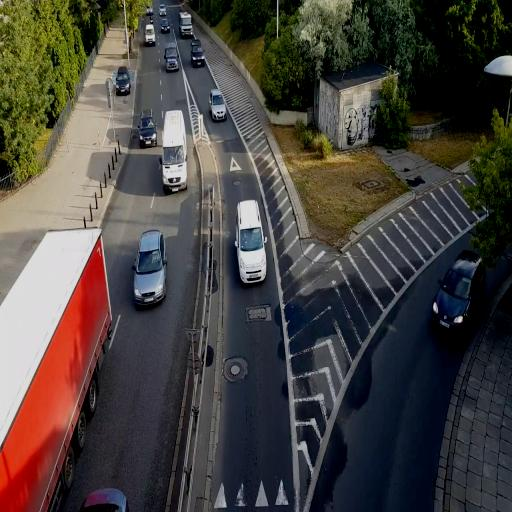vehicle: (0, 226, 114, 508), (431, 252, 487, 336), (234, 200, 268, 286), (132, 229, 167, 309), (162, 110, 188, 194), (139, 113, 157, 147), (208, 90, 227, 120), (114, 68, 131, 96), (164, 43, 179, 71), (190, 40, 205, 67), (180, 12, 194, 38), (143, 19, 156, 46), (180, 12, 193, 38)
